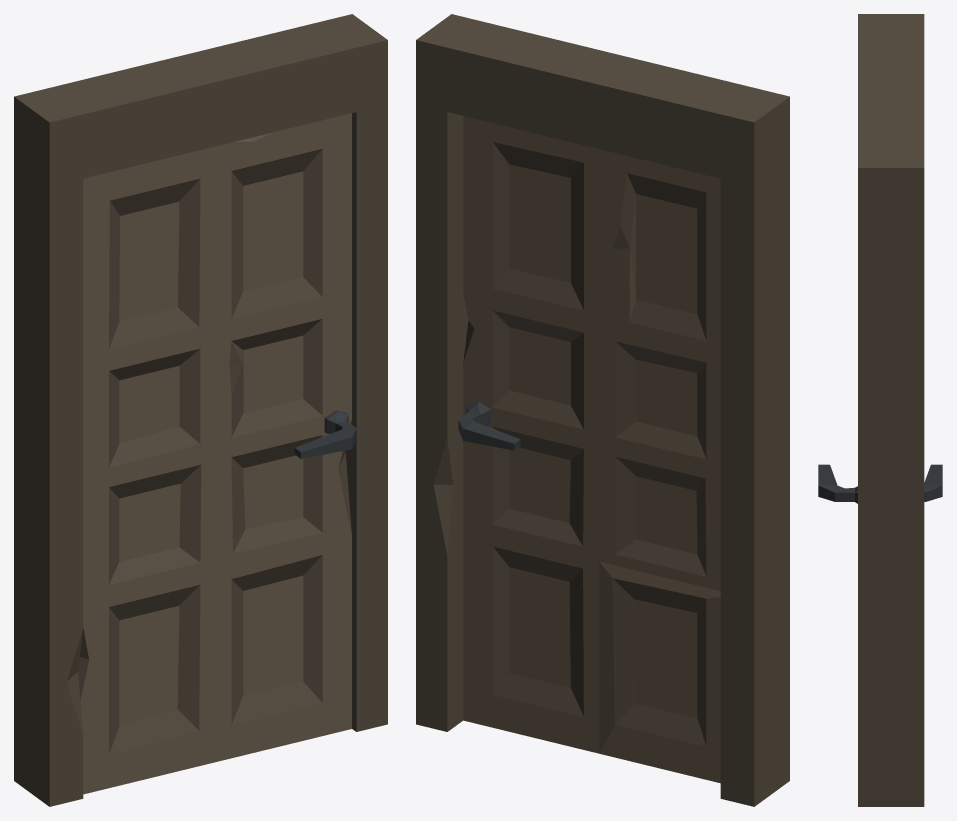
File: SM_Bld_Village_Door_01.fbx
3 views of the same model, side by side, from view 1: azimuth 30°, elevation 25°; view 2: azimuth 150°, elevation 25°; view 3: azimuth 270°, elevation 25° (orthographic). The views are drawn at different scales.
Parts seen in each view (by area): view 1: SM_Bld_Village_Door_Hinge_01, SM_Bld_Village_Door_01; view 2: SM_Bld_Village_Door_Hinge_01, SM_Bld_Village_Door_01; view 3: SM_Bld_Village_Door_01, SM_Bld_Village_Door_Hinge_01.
Part boxes in pixels (bbox=[...]): SM_Bld_Village_Door_Hinge_01: bbox=[78, 113, 356, 794]; SM_Bld_Village_Door_01: bbox=[14, 14, 387, 806]; SM_Bld_Village_Door_Hinge_01: bbox=[458, 116, 720, 783]; SM_Bld_Village_Door_01: bbox=[416, 14, 789, 806]; SM_Bld_Village_Door_01: bbox=[858, 14, 924, 806]; SM_Bld_Village_Door_Hinge_01: bbox=[818, 464, 942, 503].
Size of the model in its own units: 127 by 246 by 43.24.
